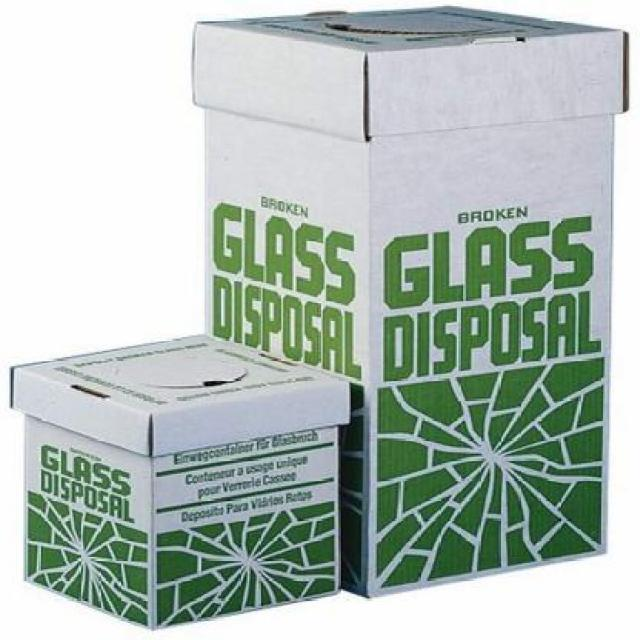box: (197, 7, 627, 599), (11, 335, 340, 627)
